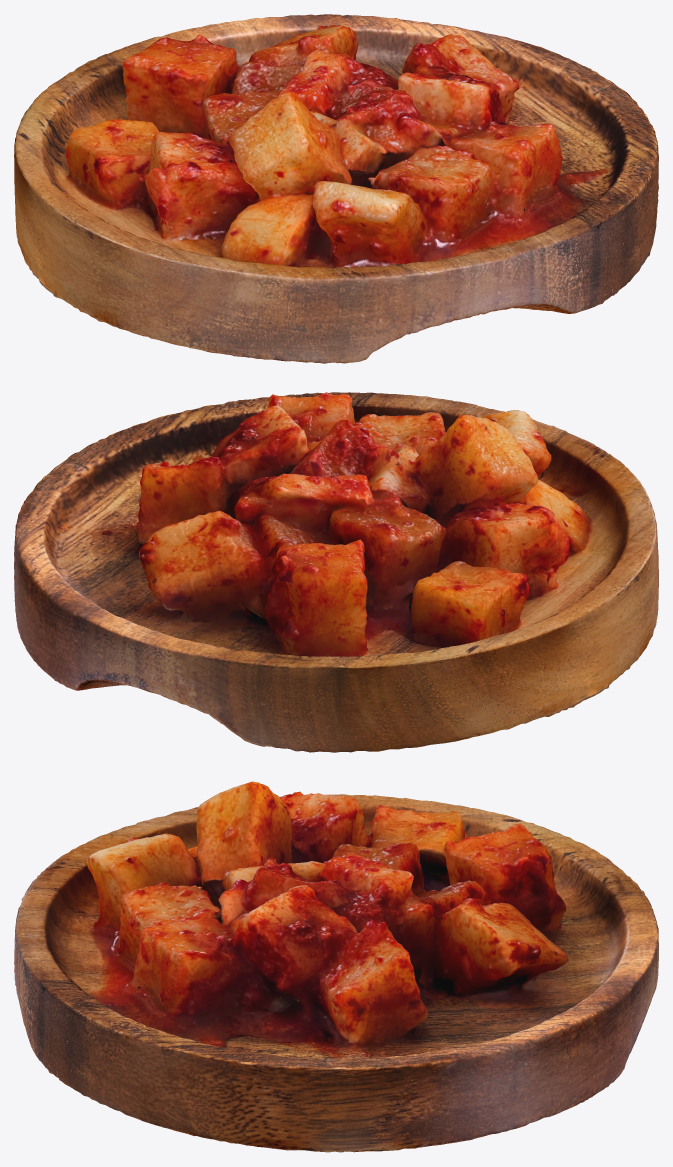
3 views of the same model, one above another, from view 1: azimuth 30°, elevation 25°; view 2: azimuth 150°, elevation 25°; view 3: azimuth 270°, elevation 25° (orthographic).
Visible parts, largest first — view 1: Object_2; view 2: Object_2; view 3: Object_2.
Boxes of the visible parts, bbox=[...] form: Object_2: bbox=[14, 14, 658, 363]; Object_2: bbox=[14, 392, 658, 752]; Object_2: bbox=[14, 781, 658, 1152].
Size of the model in its own units: 0.8096 by 0.2744 by 0.8112.
1 material, 1 textured.
